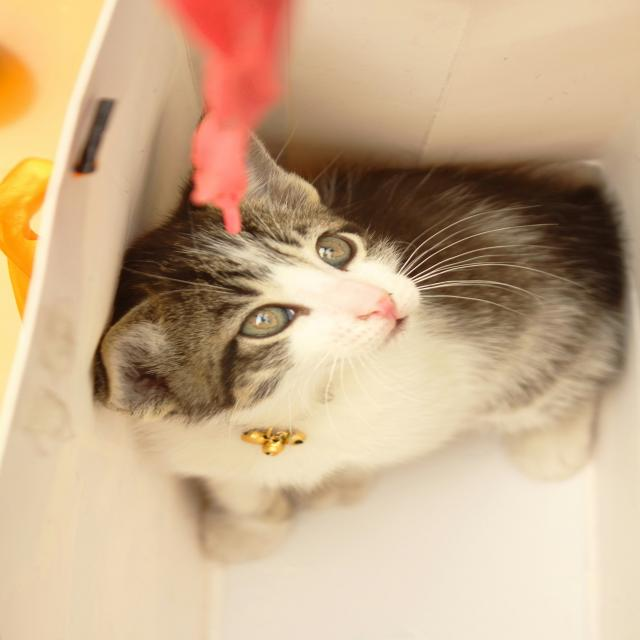cat: (48, 93, 580, 464)
